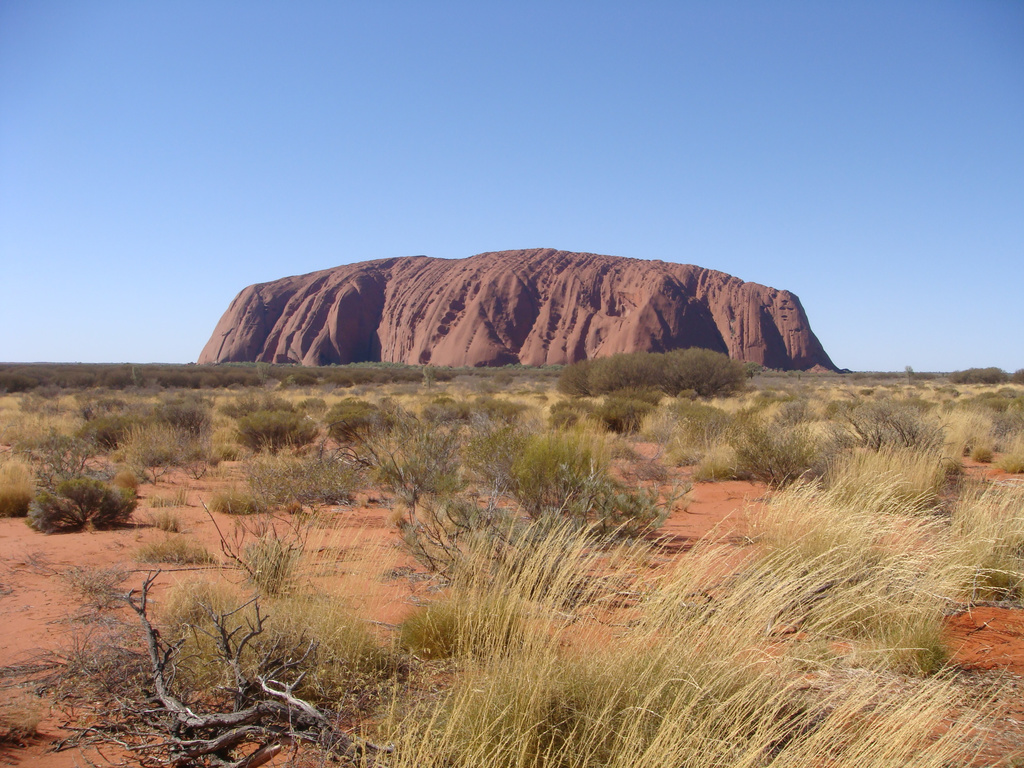Tree: (0, 341, 1023, 510)
